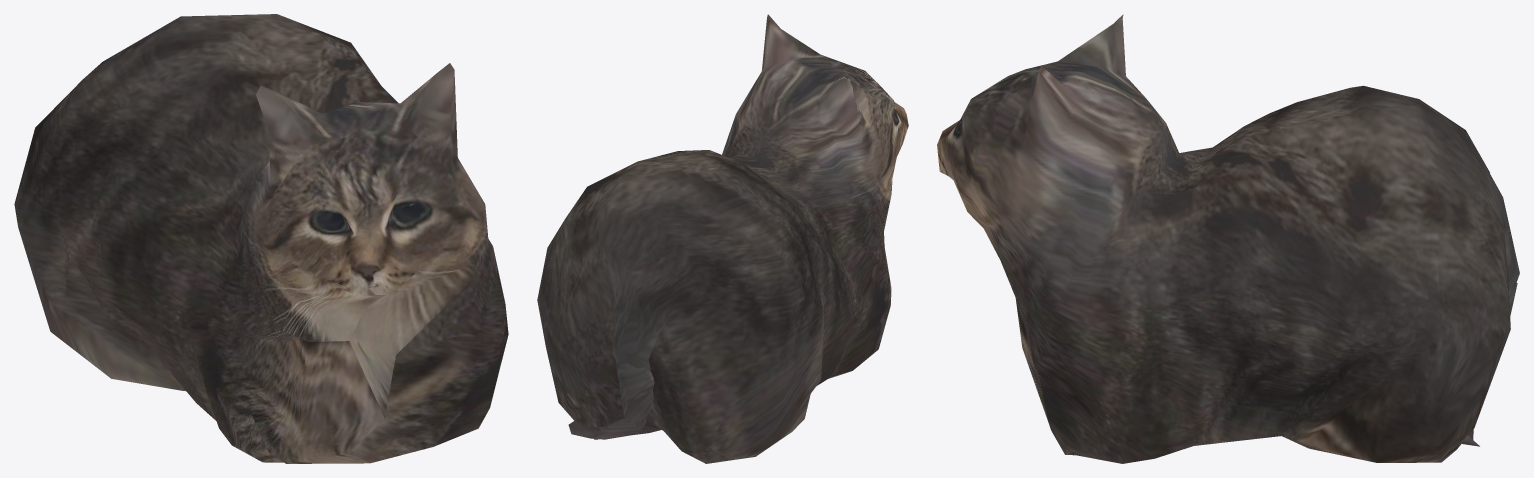
File: uiiai.glb
3 renders of one model, left to right at view 1: azimuth 30°, elevation 25°; view 2: azimuth 150°, elevation 25°; view 3: azimuth 270°, elevation 25°, orthographic. The views are drawn at different scales.
Parts seen in each view (by area): view 1: uiiaicat; view 2: uiiaicat; view 3: uiiaicat.
Boxes of the visible parts, x1,y1,x2,y2 form: uiiaicat: [14, 14, 508, 463]; uiiaicat: [537, 14, 908, 463]; uiiaicat: [937, 14, 1519, 463].
Size of the model in its own units: 1.77 by 2.02 by 2.75.
Materials: 1 (1 with a texture image).
